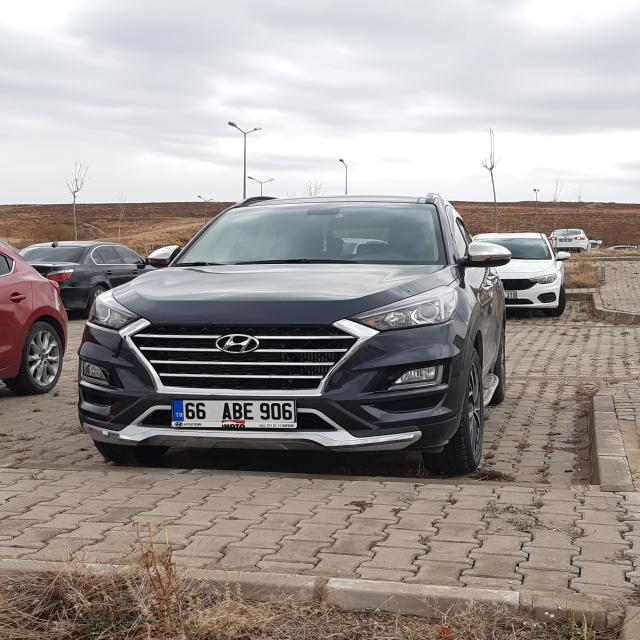plate: (173, 401, 296, 424)
